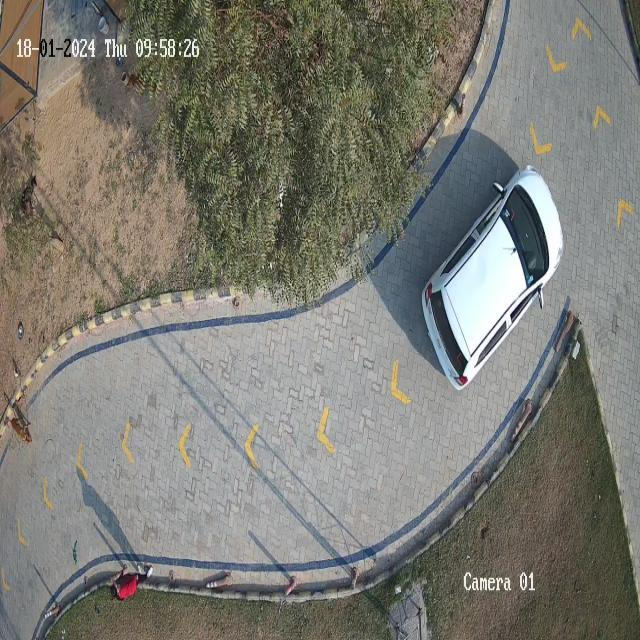car: (422, 167, 564, 389)
